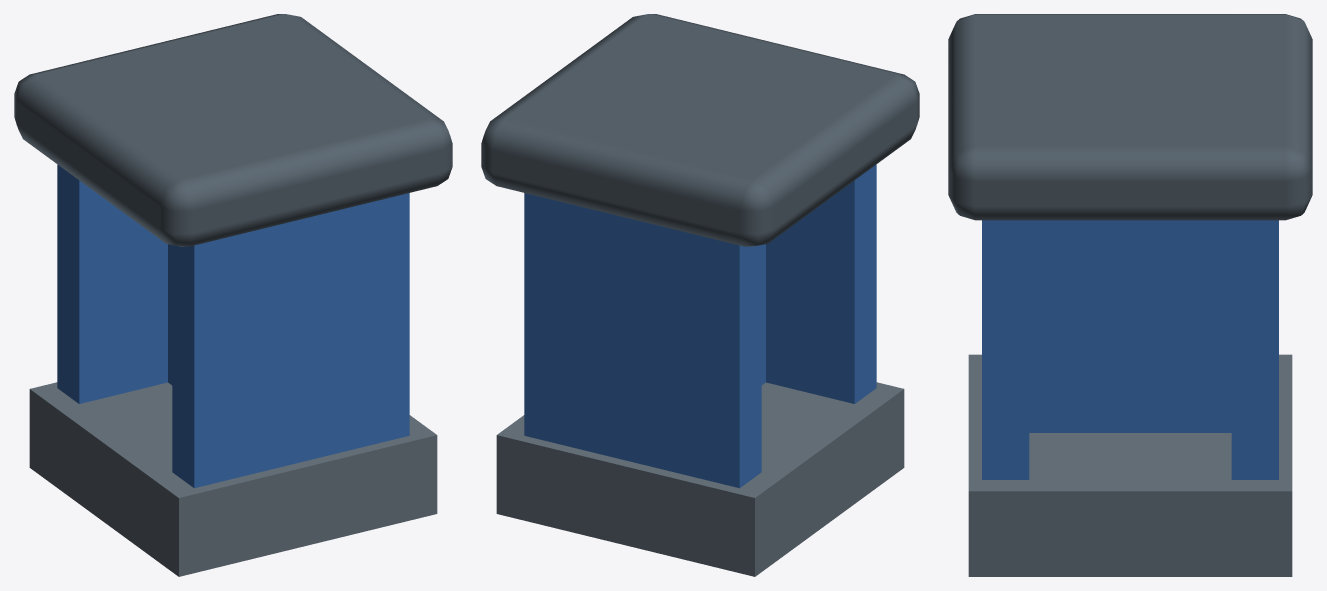
File: pfosten_sockel.glb
3 views of the same model, side by side, from view 1: azimuth 30°, elevation 25°; view 2: azimuth 150°, elevation 25°; view 3: azimuth 270°, elevation 25° (orthographic). The views are drawn at different scales.
Visible parts, largest first — view 1: pfosten_sockel; view 2: pfosten_sockel; view 3: pfosten_sockel.
Boxes of the visible parts, x1,y1,x2,y2 form: pfosten_sockel: (14, 14, 452, 576); pfosten_sockel: (481, 14, 919, 576); pfosten_sockel: (948, 14, 1312, 576).
Size of the model in its own units: 0.27 by 0.35 by 0.27.
